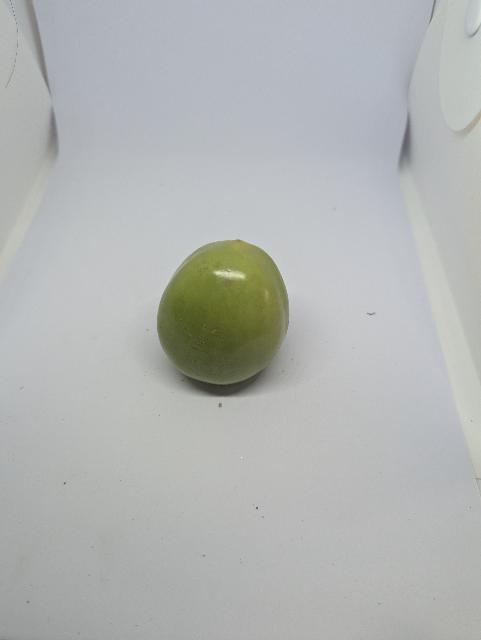green: (155, 237, 291, 386)
